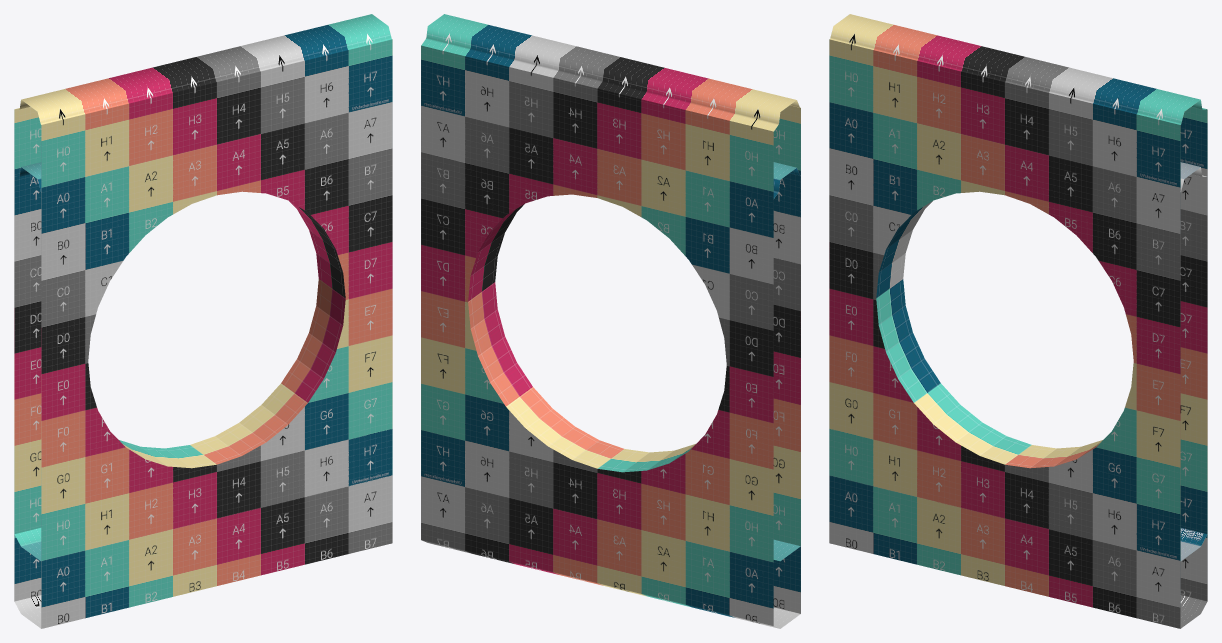
File: panelWindowRound290_manMorph5.glb
The picture shows the model from 3 angles, left to right: view 1: azimuth 30°, elevation 25°; view 2: azimuth 150°, elevation 25°; view 3: azimuth 330°, elevation 25°; orthographic projection.
Visible parts, largest first — view 1: panelClosed.002maxHeight, panelClosed.001; view 2: panelClosed.002maxHeight, panelClosed.001; view 3: panelClosed.002maxHeight, panelClosed.001.
Boxes of the visible parts, x1,y1,x2,y2 form: panelClosed.002maxHeight: (14,14,392,628); panelClosed.001: (14,107,392,560); panelClosed.002maxHeight: (421,14,800,628); panelClosed.001: (421,113,800,561); panelClosed.002maxHeight: (829,14,1207,628); panelClosed.001: (829,107,1207,560).
Size of the model in its own units: 0.3 by 0.42 by 0.04.
Materials: 1 (1 with a texture image).
